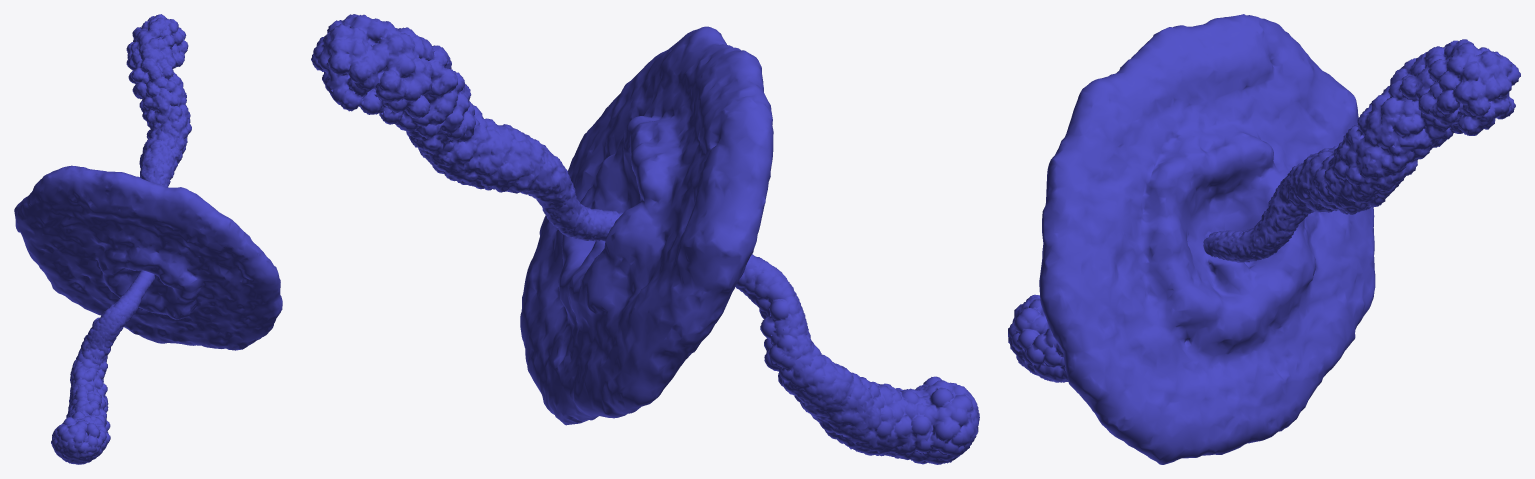
File: crab.glb
The picture shows the model from 3 angles, left to right: view 1: azimuth 30°, elevation 25°; view 2: azimuth 150°, elevation 25°; view 3: azimuth 270°, elevation 25°; orthographic projection. The views are drawn at different scales.
Visible parts, largest first — view 1: CrabNebulaXrayModel_OBJexport; view 2: CrabNebulaXrayModel_OBJexport; view 3: CrabNebulaXrayModel_OBJexport.
Boxes of the visible parts, box(x1,y1,x2,y2) form: CrabNebulaXrayModel_OBJexport: box(14, 14, 282, 464); CrabNebulaXrayModel_OBJexport: box(311, 14, 979, 464); CrabNebulaXrayModel_OBJexport: box(1008, 14, 1520, 464).
Size of the model in its own units: 171 by 190 by 178.
